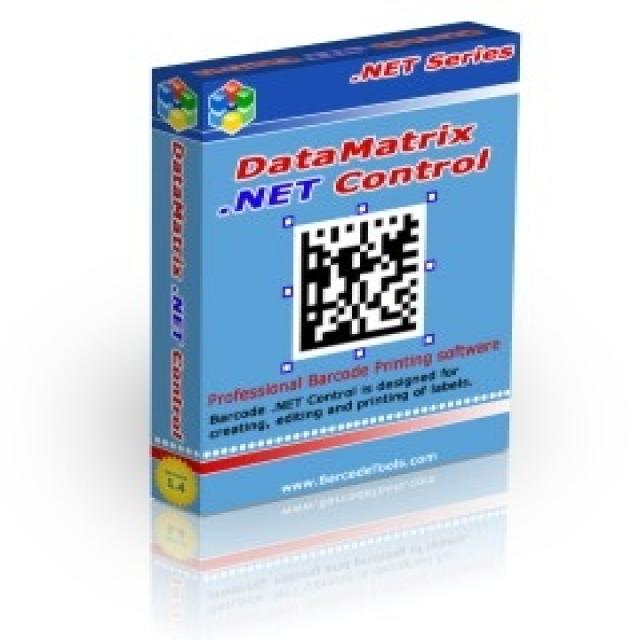datamatrix: (291, 194, 440, 362)
